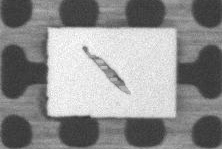DIE_INK: (112, 26, 201, 66)
